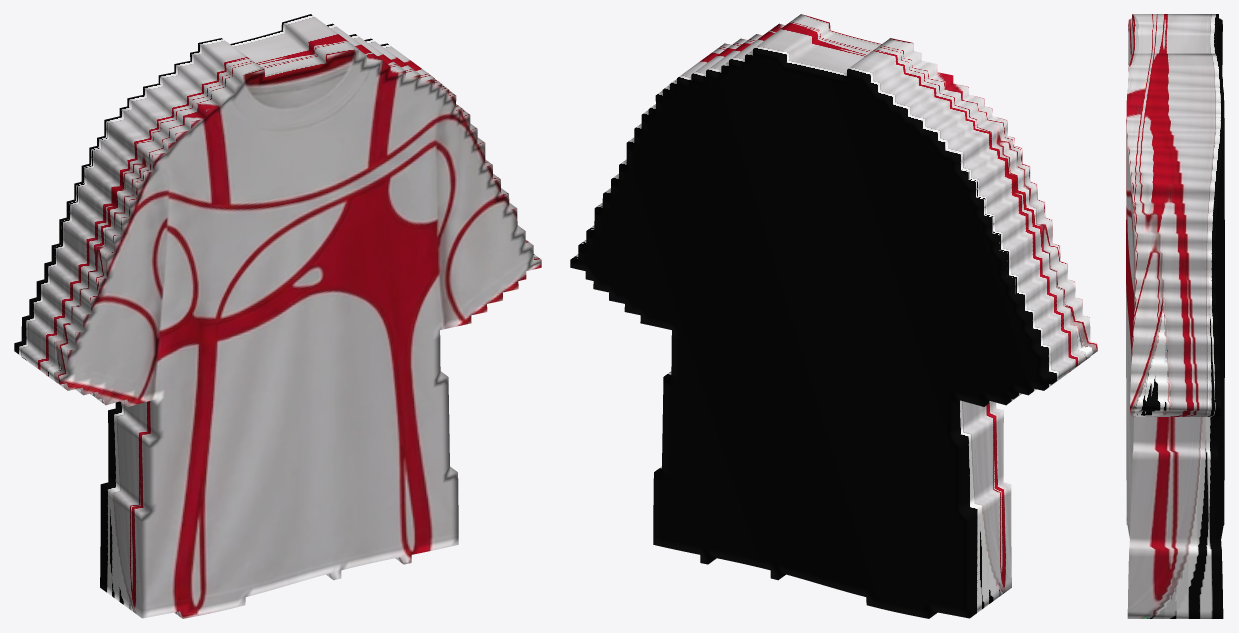
The model's file is rail-05-harness-tee.glb.
3 views of the same model, side by side, from view 1: azimuth 30°, elevation 25°; view 2: azimuth 150°, elevation 25°; view 3: azimuth 270°, elevation 25° (orthographic). The views are drawn at different scales.
Visible parts, largest first — view 1: 05-harness-tee-cutout; view 2: 05-harness-tee-cutout; view 3: 05-harness-tee-cutout.
Part boxes in pixels (x1,y1,x2,y2): 05-harness-tee-cutout: [14, 14, 541, 618]; 05-harness-tee-cutout: [570, 14, 1097, 618]; 05-harness-tee-cutout: [1126, 14, 1224, 618].
Bounding box in the file's own units: 0.567 × 0.594 × 0.104.
Materials: 1 (1 with a texture image).
